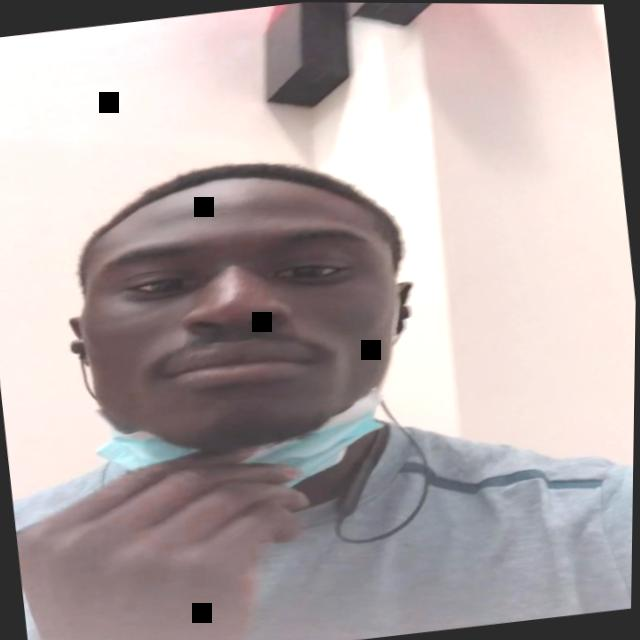NO-Mask: (65, 176, 423, 502)
